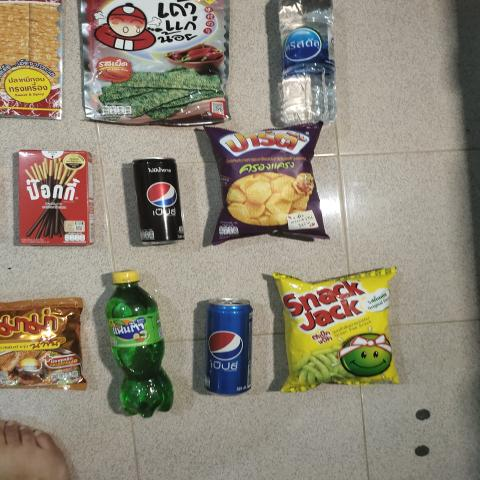crystal: (239, 0, 355, 127)
fanta_green: (105, 268, 175, 426)
mama: (0, 295, 87, 390)
party_purple: (218, 128, 310, 243)
pepsi_black: (138, 157, 187, 245)
pepsi_blue: (193, 291, 246, 399)
pokki: (17, 151, 92, 244)
snack_jack: (280, 287, 396, 386)
taokaenoi: (80, 0, 225, 122)
